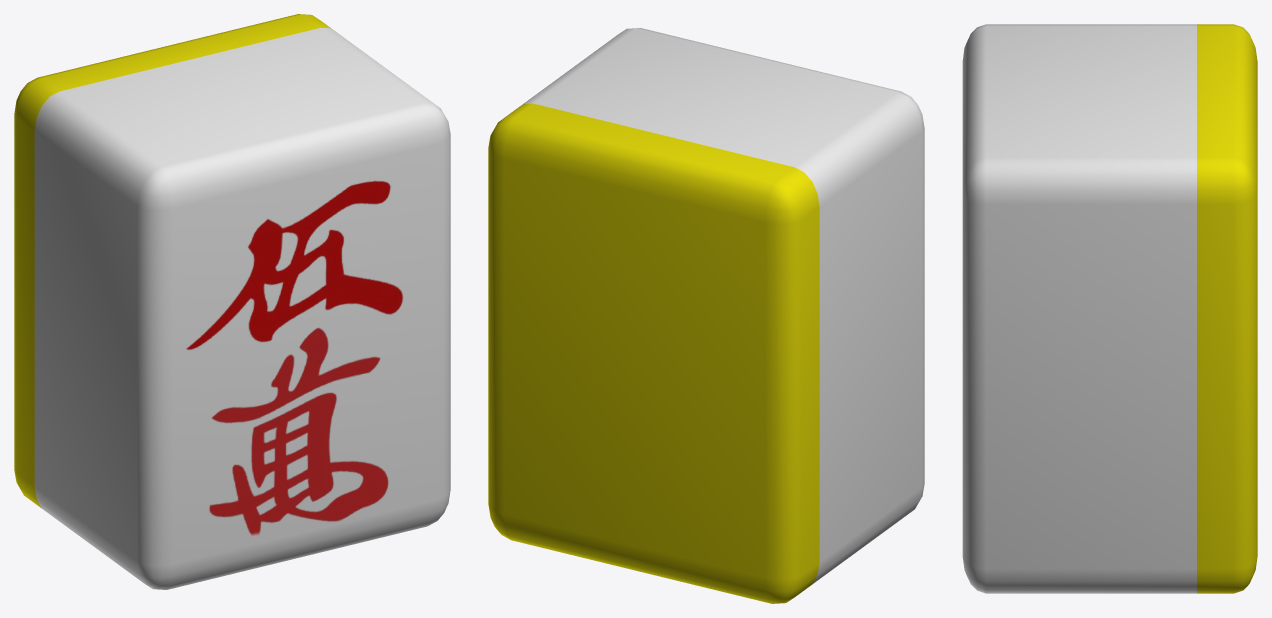
File: manzu10.glb
The picture shows the model from 3 angles, left to right: view 1: azimuth 30°, elevation 25°; view 2: azimuth 150°, elevation 25°; view 3: azimuth 270°, elevation 25°; orthographic projection. The views are drawn at different scales.
Visible parts, largest first — view 1: Cube, Cube.001; view 2: Cube; view 3: Cube.
Part boxes in pixels (x1=…): Cube: x1=14, y1=14, x2=450, y2=589; Cube.001: x1=186, y1=180, x2=403, y2=537; Cube: x1=488, y1=28, x2=924, y2=603; Cube: x1=962, y1=24, x2=1257, y2=593.
Bounding box in the file's own units: 2 × 2.6 × 1.6.
3 materials, 1 textured.
